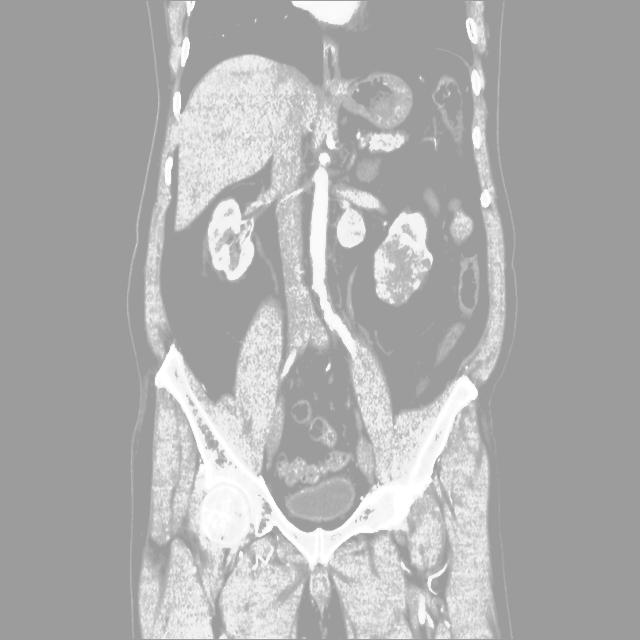TUMOR: (129, 94, 518, 310)
